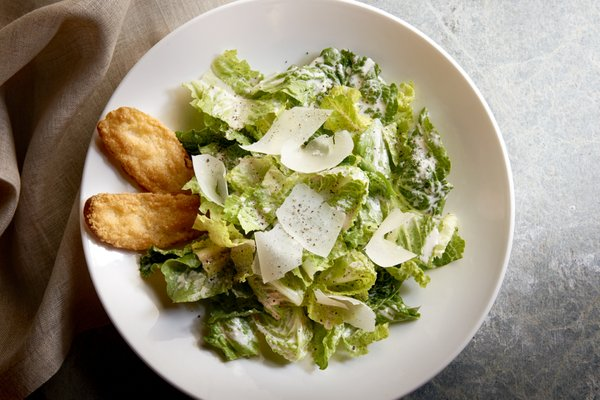sushi: (36, 1, 518, 395)
